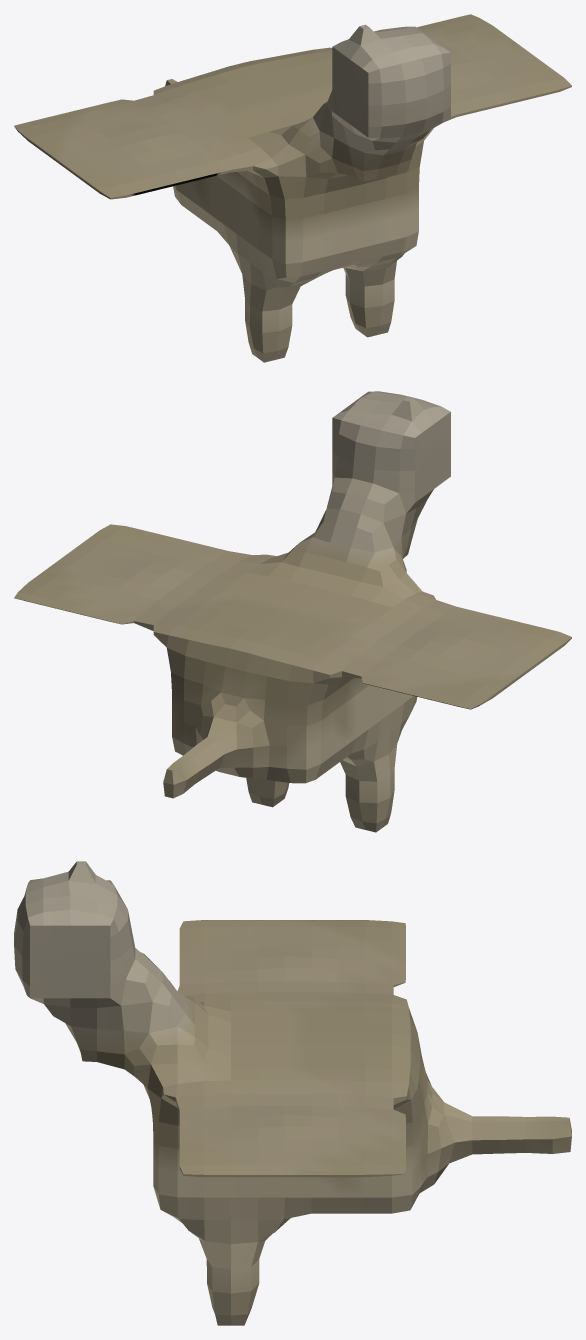
Rendered from drake.glb.
3 views of the same model, one above another, from view 1: azimuth 30°, elevation 25°; view 2: azimuth 150°, elevation 25°; view 3: azimuth 270°, elevation 25° (orthographic). The views are drawn at different scales.
Visible parts, largest first — view 1: geometry_0; view 2: geometry_0; view 3: geometry_0.
Boxes of the visible parts, <box> form: geometry_0: <box>14,14,571,362</box>; geometry_0: <box>14,391,571,832</box>; geometry_0: <box>14,861,571,1325</box>.
Size of the model in its own units: 1.25 by 0.9519 by 1.16.
Materials: 1 (1 with a texture image).
